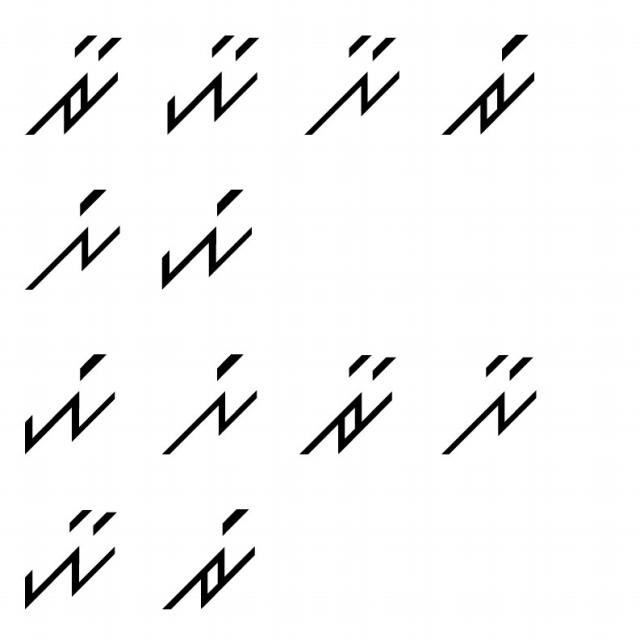lan: (300, 26, 413, 143), (435, 347, 546, 462)
lang: (20, 188, 131, 295), (156, 349, 263, 460)
ran: (298, 343, 408, 466), (18, 35, 126, 142)
rang: (443, 24, 546, 146), (162, 504, 268, 616)
yan: (15, 505, 128, 617), (160, 35, 263, 141)
yang: (152, 182, 262, 300), (15, 346, 126, 456)
